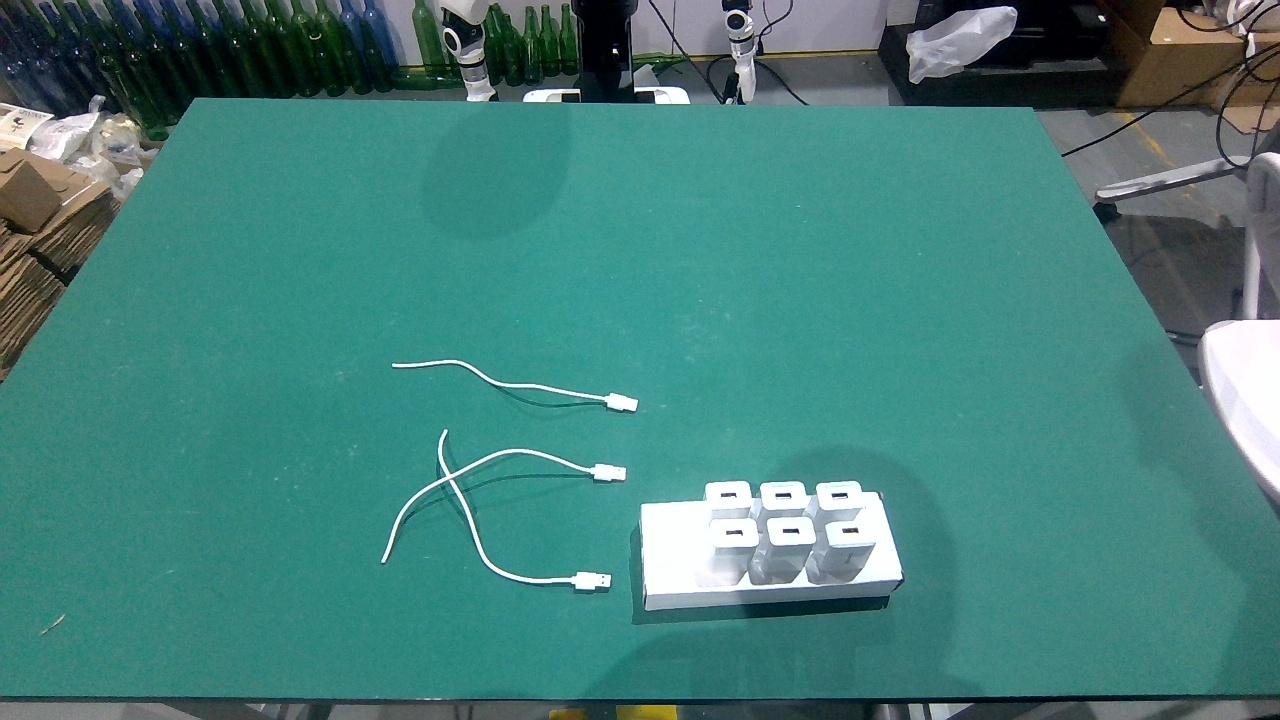usb_a_plug: (592, 389, 639, 415), (577, 461, 629, 484), (562, 571, 611, 591)
